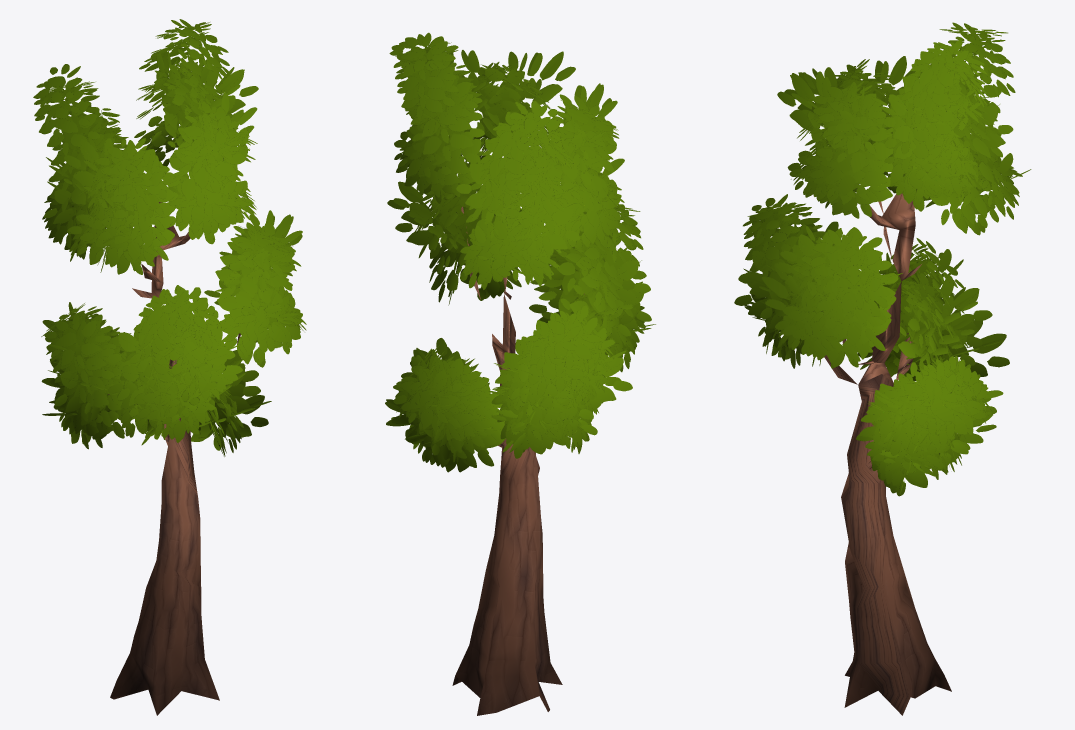
File: CommonTree_3_far.gltf
3 renders of one model, left to right at view 1: azimuth 30°, elevation 25°; view 2: azimuth 150°, elevation 25°; view 3: azimuth 270°, elevation 25°, orthographic. The views are drawn at different scales.
Visible parts, largest first — view 1: CommonTree_3; view 2: CommonTree_3; view 3: CommonTree_3.
Part boxes in pixels (left/top/right/bottom): CommonTree_3: left=33, top=19, right=306, bottom=715; CommonTree_3: left=385, top=32, right=655, bottom=715; CommonTree_3: left=734, top=22, right=1031, bottom=715.
Size of the model in its own units: 4.03 by 9.13 by 4.22.
Materials: 2 (2 with a texture image).
